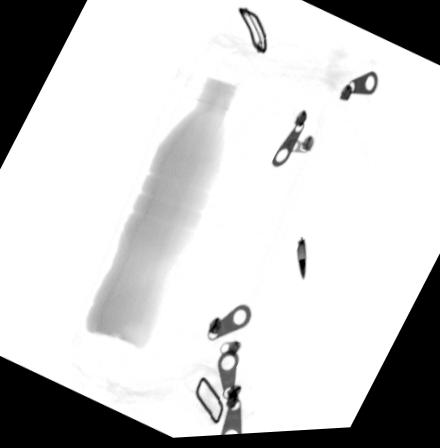Bullet: (296, 243, 306, 285)
